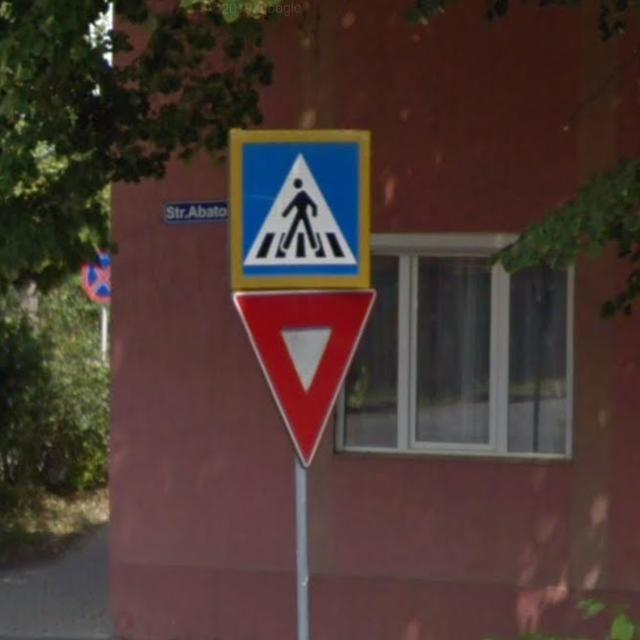forb_waiting: (81, 249, 112, 303)
info_crosswalk: (225, 126, 375, 286)
prio_give_way: (230, 286, 380, 470)
